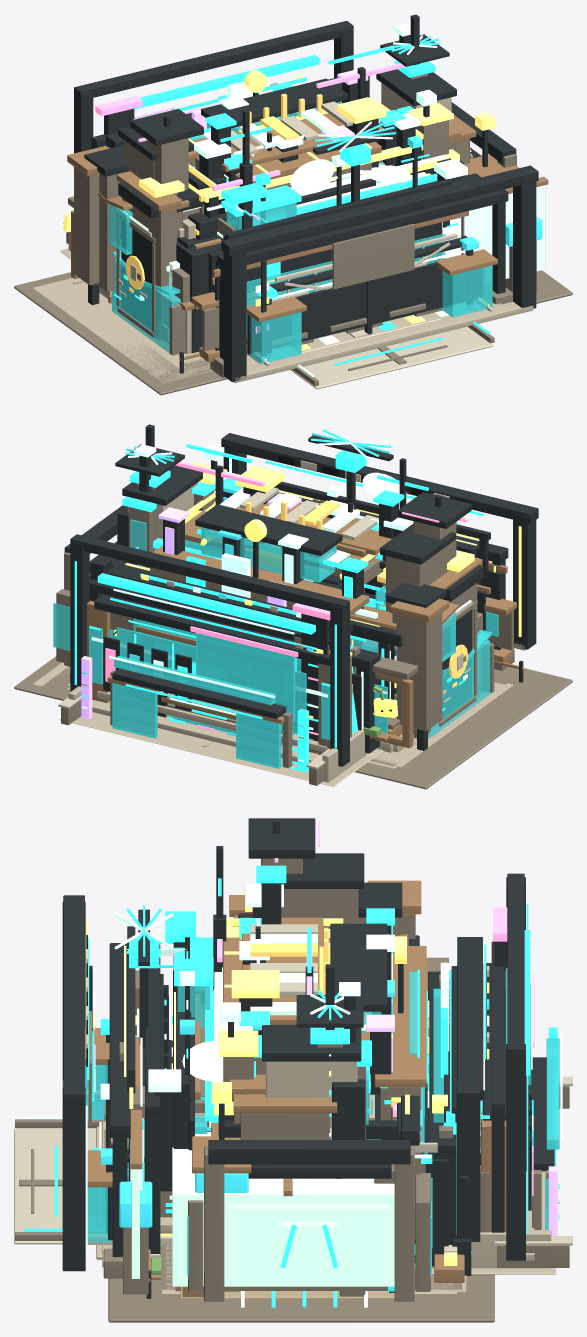
The model's file is polish-props.glb.
3 renders of one model, top to bottom at view 1: azimuth 30°, elevation 25°; view 2: azimuth 150°, elevation 25°; view 3: azimuth 270°, elevation 25°, orthographic. The views are drawn at different scales.
Visible parts, largest first — view 1: CircuitTimeTrial_RouteApproachTimingRibbonWall, CircuitTimeTrial_RouteStarterArcadeHeader, SecurityOps_ServiceCourt, SecurityOps_RouteOperationsThresholdBeam, SignalHarbor_RouteContactArrivalConcourse, CircuitTimeTrial_RouteStarterArcadeDeck, CircuitTimeTrial_RouteSplitTimerBlade, PotatoFarmStand_Court, CircuitTimeTrial_RouteApproachTimingPortalHeader, CircuitTimeTrial_RouteStarterArcadeTower_0, CircuitTimeTrial_RouteStarterArcadeTower_1, PotatoFarmStand_SeedArchiveTower (+66 smaller); view 2: SecurityOps_ServiceCourt, SecurityOps_RouteThreatReviewGallery, SecurityOps_RouteOperationsThresholdBeam, PotatoFarmStand_SeedArchiveTower, CircuitTimeTrial_RouteStarterArcadeHeader, LaunchHub_FirstFrameForecourt, CareerSoftwareHouse_ProductBoardroomRoof, TodoPlanningStudio_RoutePlanningHallHeaderBridge, CircuitTimeTrial_RouteStarterArcadeTower_0, SecurityOps_RouteOperationsThresholdPylon, SecurityOps_RouteScanCanopyBridge, CareerSoftwareHouse_ProductBoardroom (+77 smaller); view 3: PotatoFarmStand_FieldCanopyFrame, SecurityOps_ServiceCourt, SentinelSoc_RouteShieldThresholdBeam, SignalHarbor_RouteContactArrivalConcourse, CircuitTimeTrial_RouteStarterArcadeHeader, TodoPlanningStudio_ProductionControlRoof, SecurityOps_RouteOperationsThresholdPylon.001, CircuitTimeTrial_RouteStarterArcadeTower_1, CareerSoftwareHouse_ProductBoardroomRoof, TodoPlanningStudio_RouteSprintBoardGateHeader, TodoPlanningStudio_RouteDecisionStack, CircuitTimeTrial_RouteApproachTimingPortalHeader (+76 smaller).
Boxes of the visible parts, x1,y1,x2,y2 form: CircuitTimeTrial_RouteApproachTimingRibbonWall: [247, 262, 482, 354]; CircuitTimeTrial_RouteStarterArcadeHeader: [221, 165, 538, 256]; SecurityOps_ServiceCourt: [14, 270, 572, 395]; SecurityOps_RouteOperationsThresholdBeam: [74, 21, 353, 100]; SignalHarbor_RouteContactArrivalConcourse: [290, 326, 493, 389]; CircuitTimeTrial_RouteStarterArcadeDeck: [234, 302, 533, 383]; CircuitTimeTrial_RouteSplitTimerBlade: [332, 223, 414, 289]; PotatoFarmStand_Court: [33, 278, 547, 382]; CircuitTimeTrial_RouteApproachTimingPortalHeader: [217, 189, 508, 269]; CircuitTimeTrial_RouteStarterArcadeTower_0: [223, 246, 246, 382]; CircuitTimeTrial_RouteStarterArcadeTower_1: [513, 175, 536, 308]; PotatoFarmStand_SeedArchiveTower: [74, 167, 99, 285]; SecurityOps_ServiceCourt: [14, 656, 572, 789]; SecurityOps_RouteThreatReviewGallery: [196, 633, 295, 721]; SecurityOps_RouteOperationsThresholdBeam: [70, 534, 349, 614]; PotatoFarmStand_SeedArchiveTower: [396, 613, 442, 731]; CircuitTimeTrial_RouteStarterArcadeHeader: [221, 433, 538, 523]; LaunchHub_FirstFrameForecourt: [60, 712, 382, 786]; CareerSoftwareHouse_ProductBoardroomRoof: [195, 504, 342, 555]; TodoPlanningStudio_RoutePlanningHallHeaderBridge: [94, 594, 330, 665]; CircuitTimeTrial_RouteStarterArcadeTower_0: [513, 513, 536, 649]; SecurityOps_RouteOperationsThresholdPylon: [330, 603, 349, 766]; SecurityOps_RouteScanCanopyBridge: [97, 573, 315, 634]; CareerSoftwareHouse_ProductBoardroom: [201, 527, 336, 582]; PotatoFarmStand_FieldCanopyFrame: [172, 1132, 394, 1286]; SecurityOps_ServiceCourt: [108, 1232, 494, 1322]; SentinelSoc_RouteShieldThresholdBeam: [208, 1140, 410, 1164]; SignalHarbor_RouteContactArrivalConcourse: [14, 1128, 96, 1244]; CircuitTimeTrial_RouteStarterArcadeHeader: [63, 895, 84, 1106]; TodoPlanningStudio_ProductionControlRoof: [374, 946, 426, 1087]; SecurityOps_RouteOperationsThresholdPylon.001: [506, 1044, 525, 1260]; CircuitTimeTrial_RouteStarterArcadeTower_1: [62, 1087, 85, 1270]; CareerSoftwareHouse_ProductBoardroomRoof: [330, 923, 387, 1011]; TodoPlanningStudio_RouteSprintBoardGateHeader: [457, 937, 482, 1100]; TodoPlanningStudio_RouteDecisionStack: [456, 1084, 480, 1241]; CircuitTimeTrial_RouteApproachTimingPortalHeader: [109, 943, 130, 1137].
Bounding box in the file's own units: 22.4 × 12.34 × 19.96.
